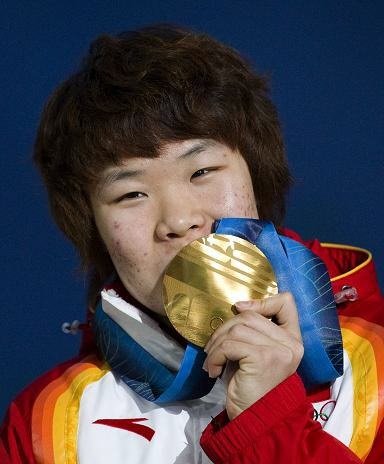face: (91, 101, 261, 337)
